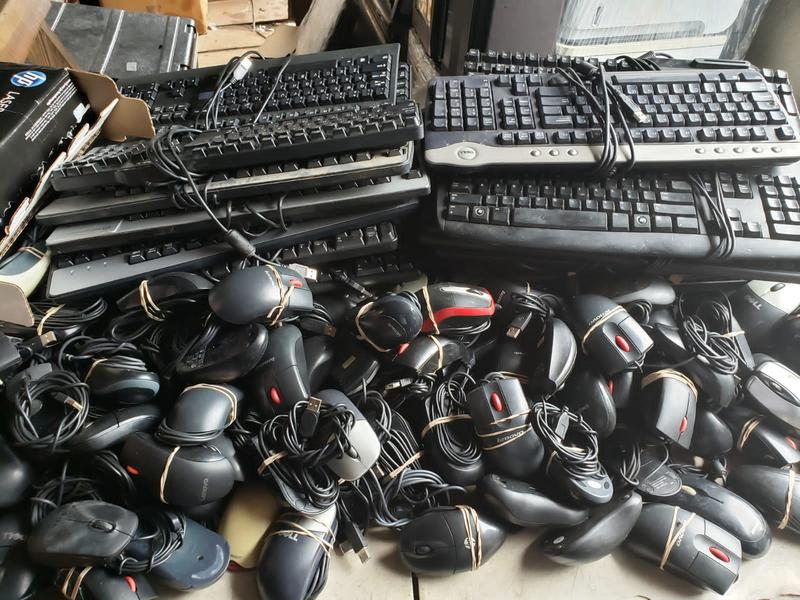keyboard: (37, 36, 427, 195), (38, 164, 424, 301), (435, 161, 800, 274), (423, 67, 799, 171)
mouse: (630, 495, 747, 597), (249, 500, 360, 598), (118, 429, 239, 511), (464, 374, 551, 482), (25, 498, 147, 571), (537, 491, 643, 570), (397, 502, 507, 576), (135, 508, 231, 592), (567, 293, 657, 381), (209, 263, 320, 329), (627, 363, 706, 453), (246, 326, 317, 423), (482, 471, 591, 529), (164, 379, 247, 444), (412, 282, 496, 337)
